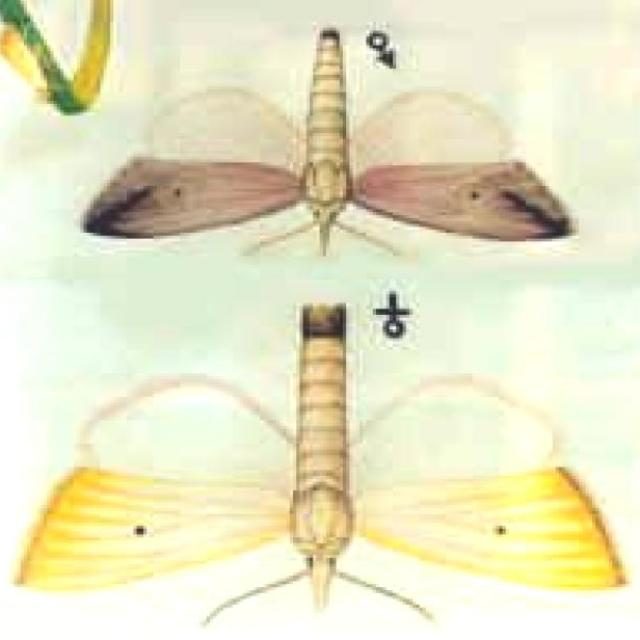stem borer: (16, 302, 626, 625), (82, 29, 574, 257)
